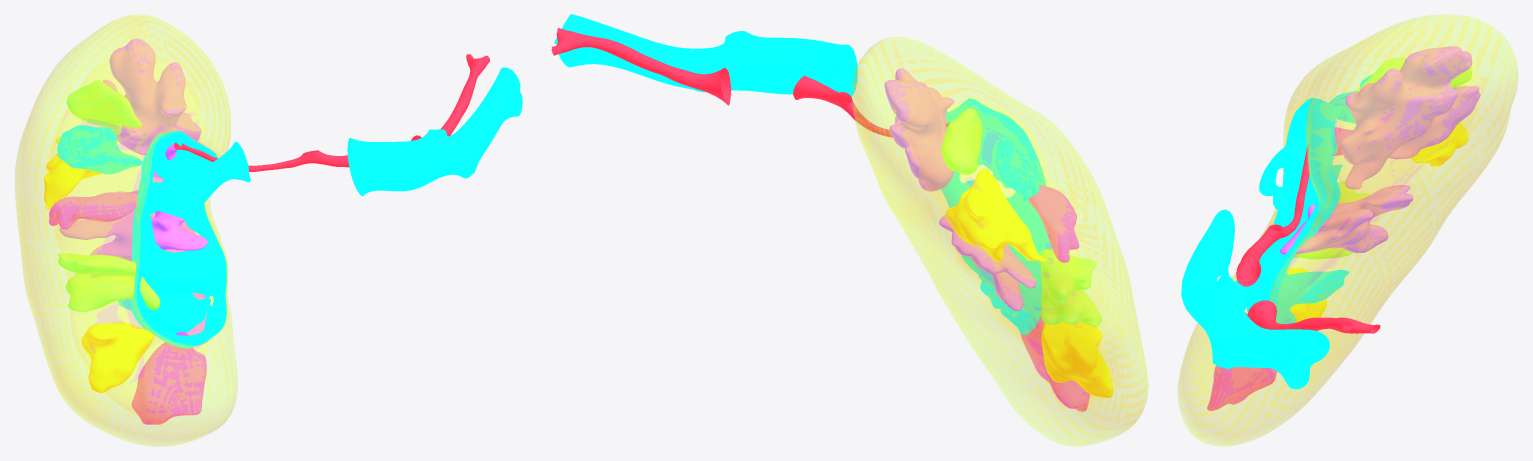
Rendered from niere-male.glb.
3 renders of one model, left to right at view 1: azimuth 30°, elevation 25°; view 2: azimuth 150°, elevation 25°; view 3: azimuth 270°, elevation 25°, orthographic. The views are drawn at different scales.
Parts seen in each view (by area): view 1: 0:0:VH_M_outer_cortex_of_kidney_R, 0:3:VH_M_hilum_of_kidney_R, 1:0:VH_M_renal_vein_L, 0:16:VH_M_renal_pyramid_a, 0:25:VH_M_renal_pyramid_j, 0:4:VH_M_kidney_capsule_R, 0:22:VH_M_renal_pyramid_g, 1:1:VH_M_renal_vein_R, 0:24:VH_M_renal_pyramid_i, 0:21:VH_M_renal_pyramid_f, 0:1:VH_M_renal_column_R, 0:18:VH_M_renal_pyramid_c (+6 smaller); view 2: 0:0:VH_M_outer_cortex_of_kidney_R, 1:0:VH_M_renal_vein_L, 0:4:VH_M_kidney_capsule_R, 0:16:VH_M_renal_pyramid_a, 0:19:VH_M_renal_pyramid_d, 0:3:VH_M_hilum_of_kidney_R, 0:24:VH_M_renal_pyramid_i, 0:22:VH_M_renal_pyramid_g, 1:3:VH_M_right_renal_artery, 0:21:VH_M_renal_pyramid_f, 0:20:VH_M_renal_pyramid_e, 0:17:VH_M_renal_pyramid_b (+5 smaller); view 3: 0:0:VH_M_outer_cortex_of_kidney_R, 0:16:VH_M_renal_pyramid_a, 1:0:VH_M_renal_vein_L, 0:3:VH_M_hilum_of_kidney_R, 0:4:VH_M_kidney_capsule_R, 0:21:VH_M_renal_pyramid_f, 0:23:VH_M_renal_pyramid_h, 0:25:VH_M_renal_pyramid_j, 1:2:VH_M_left_renal_artery, 1:1:VH_M_renal_vein_R, 1:3:VH_M_right_renal_artery, 0:19:VH_M_renal_pyramid_d (+5 smaller).
Boxes of the visible parts, x1,y1,x2,y2 form: 0:0:VH_M_outer_cortex_of_kidney_R: (15, 14, 237, 446); 0:3:VH_M_hilum_of_kidney_R: (130, 131, 226, 348); 1:0:VH_M_renal_vein_L: (347, 67, 522, 196); 0:16:VH_M_renal_pyramid_a: (103, 38, 201, 160); 0:25:VH_M_renal_pyramid_j: (131, 342, 206, 424); 0:4:VH_M_kidney_capsule_R: (15, 15, 234, 446); 0:22:VH_M_renal_pyramid_g: (57, 253, 149, 311); 1:1:VH_M_renal_vein_R: (153, 141, 250, 222); 0:24:VH_M_renal_pyramid_i: (81, 321, 149, 392); 0:21:VH_M_renal_pyramid_f: (59, 191, 207, 261); 0:1:VH_M_renal_column_R: (54, 112, 207, 383); 0:18:VH_M_renal_pyramid_c: (57, 125, 142, 174); 0:0:VH_M_outer_cortex_of_kidney_R: (852, 37, 1147, 446); 1:0:VH_M_renal_vein_L: (554, 14, 857, 97); 0:4:VH_M_kidney_capsule_R: (853, 37, 1147, 445); 0:16:VH_M_renal_pyramid_a: (884, 68, 954, 191); 0:19:VH_M_renal_pyramid_d: (946, 175, 1045, 262); 0:3:VH_M_hilum_of_kidney_R: (941, 98, 1051, 294); 0:24:VH_M_renal_pyramid_i: (1041, 322, 1113, 397); 0:22:VH_M_renal_pyramid_g: (1041, 249, 1102, 326); 1:3:VH_M_right_renal_artery: (551, 28, 731, 105); 0:21:VH_M_renal_pyramid_f: (939, 215, 1035, 310); 0:20:VH_M_renal_pyramid_e: (1028, 185, 1079, 262); 0:17:VH_M_renal_pyramid_b: (941, 108, 982, 174); 0:0:VH_M_outer_cortex_of_kidney_R: (1178, 14, 1517, 446); 0:16:VH_M_renal_pyramid_a: (1340, 46, 1480, 189); 1:0:VH_M_renal_vein_L: (1181, 209, 1329, 389); 0:3:VH_M_hilum_of_kidney_R: (1234, 98, 1342, 310); 0:4:VH_M_kidney_capsule_R: (1178, 14, 1517, 444); 0:21:VH_M_renal_pyramid_f: (1280, 185, 1413, 254); 0:23:VH_M_renal_pyramid_h: (1246, 269, 1348, 323); 0:25:VH_M_renal_pyramid_j: (1207, 365, 1276, 410); 1:2:VH_M_left_renal_artery: (1236, 143, 1309, 286); 1:1:VH_M_renal_vein_R: (1259, 140, 1307, 210); 1:3:VH_M_right_renal_artery: (1247, 300, 1380, 333); 0:19:VH_M_renal_pyramid_d: (1410, 121, 1468, 166).
Size of the model in its own units: 0.1578 by 0.1125 by 0.0764.
